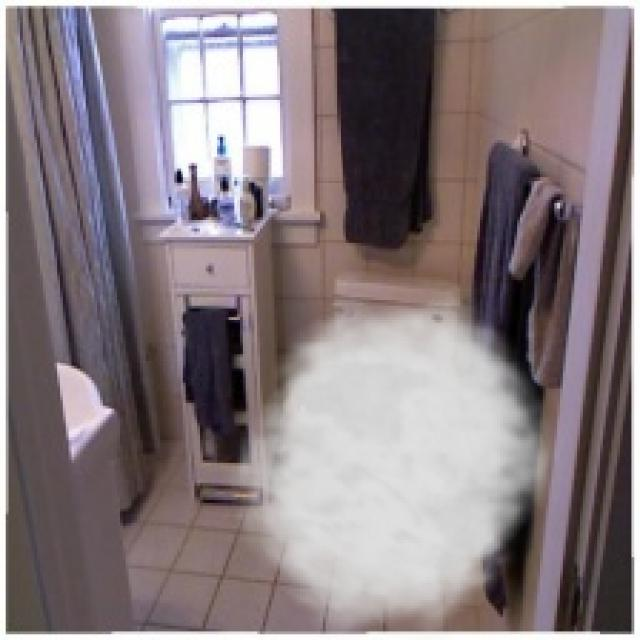smoke: (220, 283, 566, 637)
